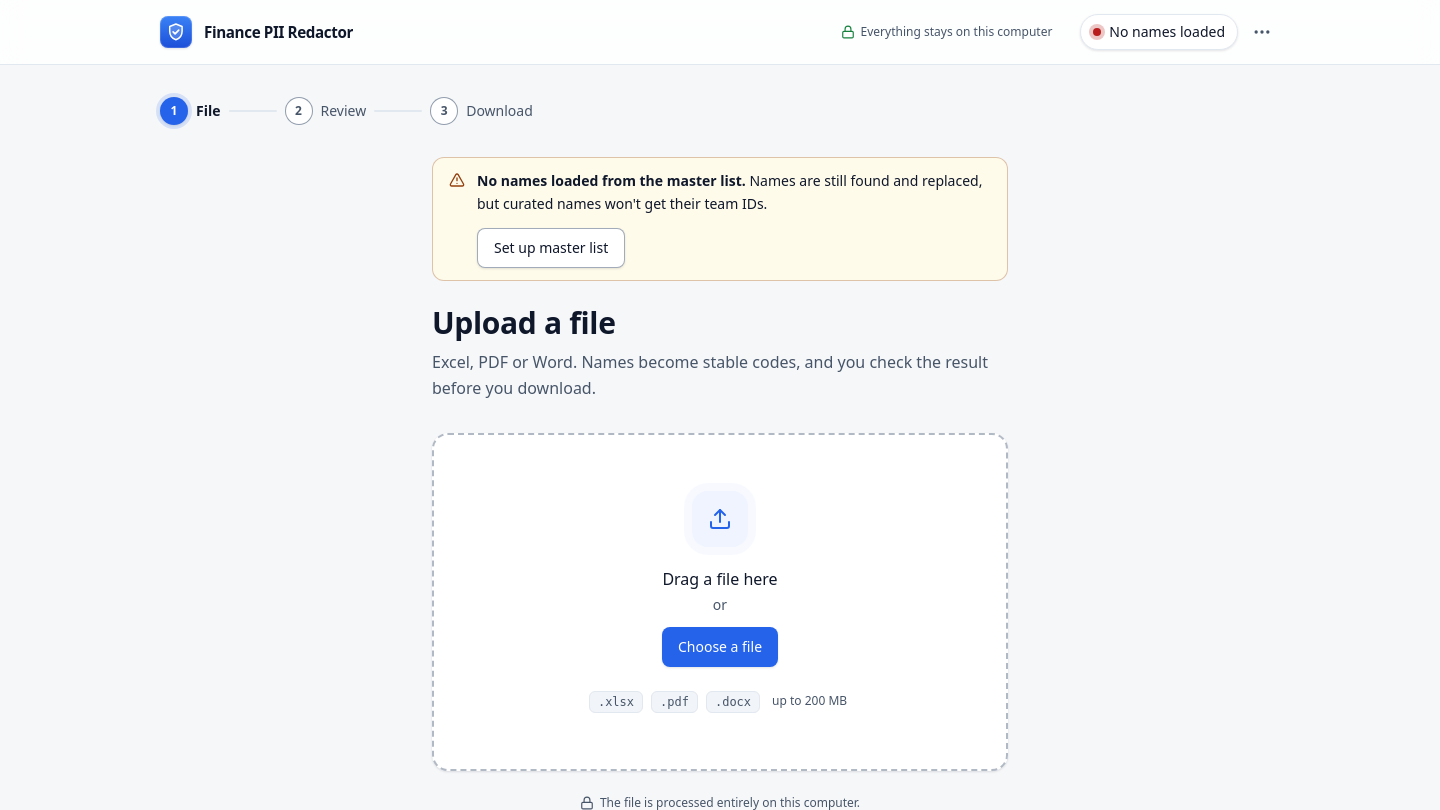
Test: empty master list › shows a banner on Upload that opens the setup, even after skipping
The width and height of the screenshot is (1440, 810).
Check: the text "No names loaded from the master list." is shown, box [477, 171, 746, 190]
Click the button "Set up master list" at (551, 248), box [477, 228, 625, 268]
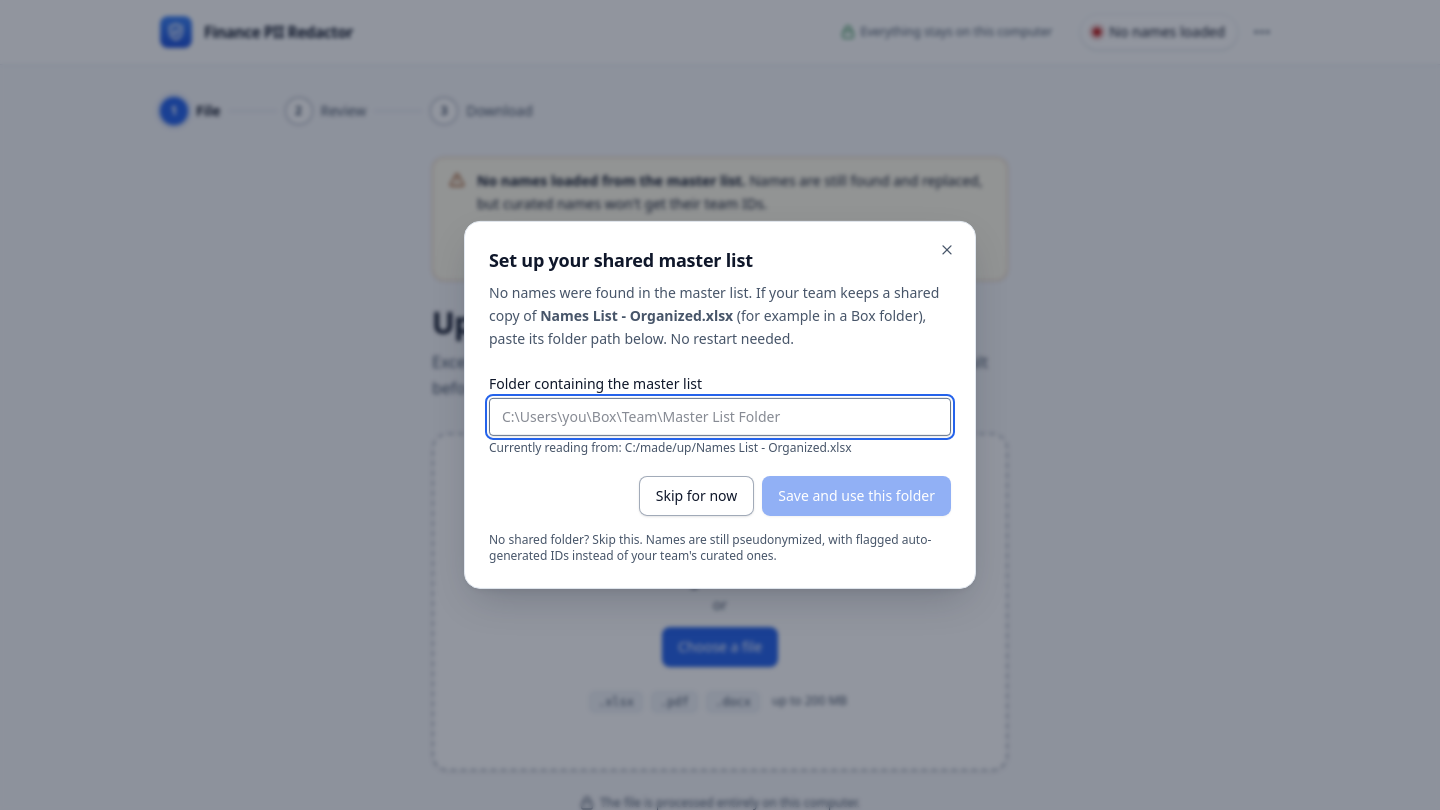
Check: the dialog "Set up your shared master list" is shown, box [464, 221, 976, 589]
